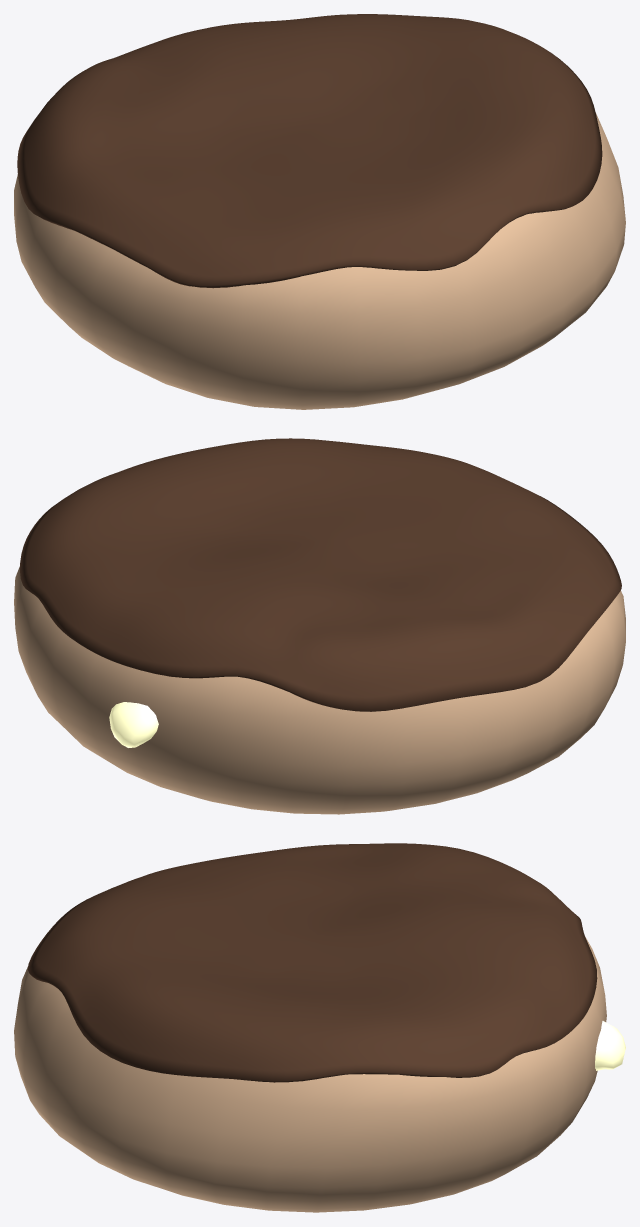
The model's file is donut.Boston7 (1).fbx.
The picture shows the model from 3 angles, top to bottom: view 1: azimuth 30°, elevation 25°; view 2: azimuth 150°, elevation 25°; view 3: azimuth 270°, elevation 25°; orthographic projection.
Visible parts, largest first — view 1: boston_frosting, boston_body; view 2: boston_frosting, boston_body, boston_filling; view 3: boston_frosting, boston_body, boston_filling.
Boxes of the visible parts, bbox=[...] form: boston_frosting: bbox=[17, 14, 602, 288]; boston_body: bbox=[14, 113, 625, 409]; boston_frosting: bbox=[20, 438, 621, 711]; boston_body: bbox=[14, 566, 625, 814]; boston_filling: bbox=[109, 702, 158, 747]; boston_frosting: bbox=[27, 843, 597, 1082]; boston_body: bbox=[14, 937, 606, 1212]; boston_filling: bbox=[595, 1021, 625, 1070].
Bounding box in the file's own units: 212 × 83.19 × 211.
